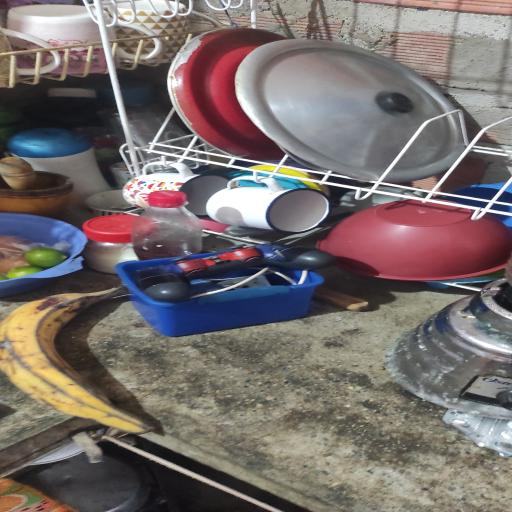ControlPlay4: (133, 244, 333, 302)
